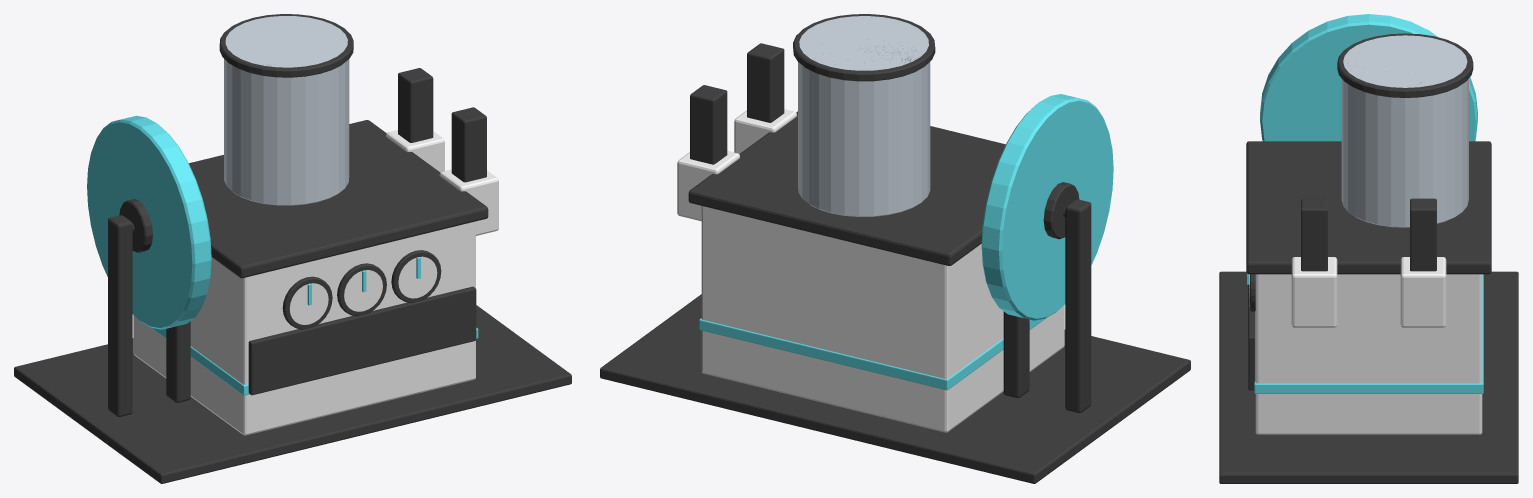
Rendered from slp-engine.glb.
The picture shows the model from 3 angles, left to right: view 1: azimuth 30°, elevation 25°; view 2: azimuth 150°, elevation 25°; view 3: azimuth 270°, elevation 25°; orthographic projection. The views are drawn at different scales.
Parts seen in each view (by area): view 1: base_slab, body, body_trim, tank, flywheel, sign_board, axle_post_0, sign_back, piston_a, piston_b, tank_cap, axle_post_1 (+10 smaller); view 2: body, base_slab, tank, flywheel, body_trim, axle_post_0, body_band, piston_a, piston_b, tank_cap, axle_post_1, housing_piston_b (+2 smaller); view 3: body, base_slab, tank, body_trim, flywheel, housing_piston_a, housing_piston_b, body_band, tank_cap, piston_a, piston_b, sign_back.
Boxes of the visible parts, x1,y1,x2,y2 form: base_slab: (14,305,571,483); body: (133,221,475,435); body_trim: (189,120,488,278); tank: (224,16,349,205); flywheel: (87,115,211,329); sign_board: (255,293,473,390); axle_post_0: (108,215,132,416); sign_back: (248,286,476,395); piston_a: (451,107,486,182); piston_b: (398,68,433,142); tank_cap: (219,14,353,77); axle_post_1: (166,321,190,402); body: (701,206,1064,432); base_slab: (600,294,1190,483); tank: (798,16,930,216); flywheel: (981,94,1113,320); body_trim: (688,111,1005,265); axle_post_0: (1065,199,1091,413); body_band: (699,318,1045,390); piston_a: (747,43,784,122); piston_b: (690,85,727,164); tank_cap: (793,14,935,81); axle_post_1: (1003,311,1029,397); housing_piston_b: (677,151,739,221); body: (1255,274,1482,434); base_slab: (1219,271,1518,483); tank: (1341,35,1468,227); body_trim: (1246,141,1491,274); flywheel: (1260,14,1477,141); housing_piston_a: (1291,257,1337,327); housing_piston_b: (1400,257,1446,327); body_band: (1254,274,1483,393); tank_cap: (1337,33,1473,97); piston_a: (1301,198,1327,271); piston_b: (1410,198,1436,271); sign_back: (1248,284,1255,390).
Bounding box in the file's own units: 10.6 × 7.95 × 6.6.
